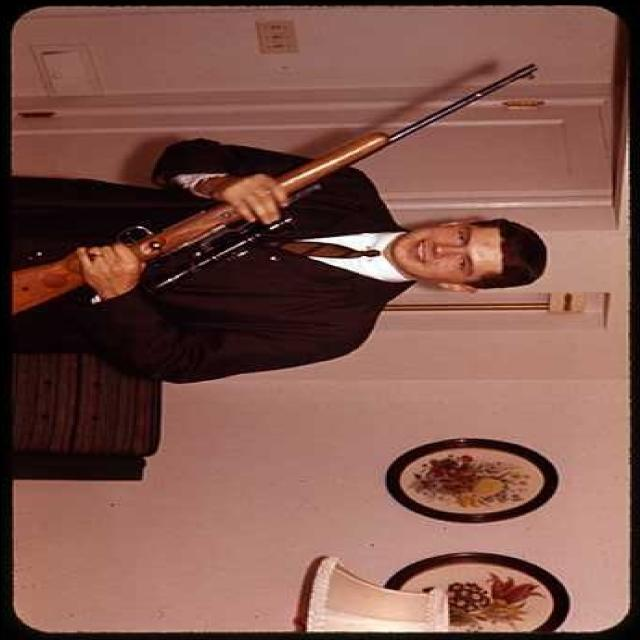heavyweapon: (1, 51, 578, 321)
